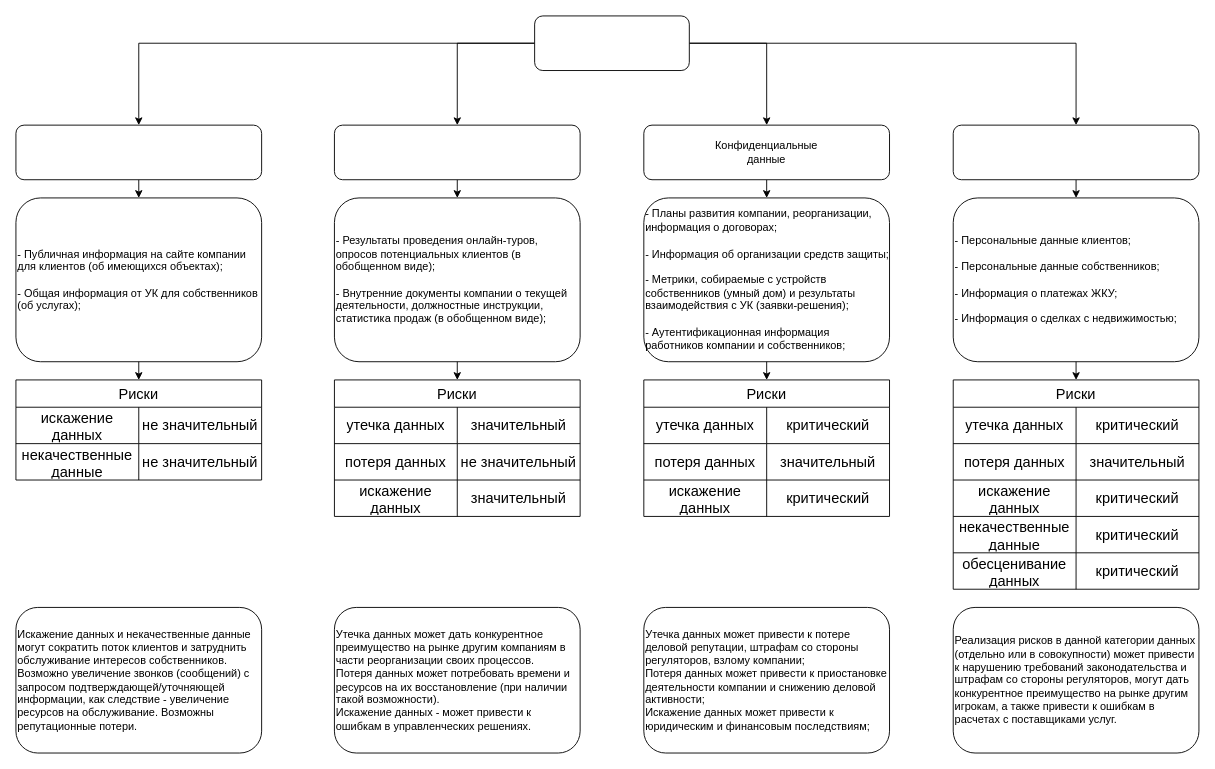
The diagram is 1215 pixels wide and 769 high, and some of its shapes have lost their labels. Each missing label, with the box of its shape:
Безопасность данных: (534, 15, 689, 71)
Внутренние данные: (334, 124, 580, 180)
Публичные данные: (15, 124, 262, 180)
Секретные данные: (952, 124, 1199, 180)
